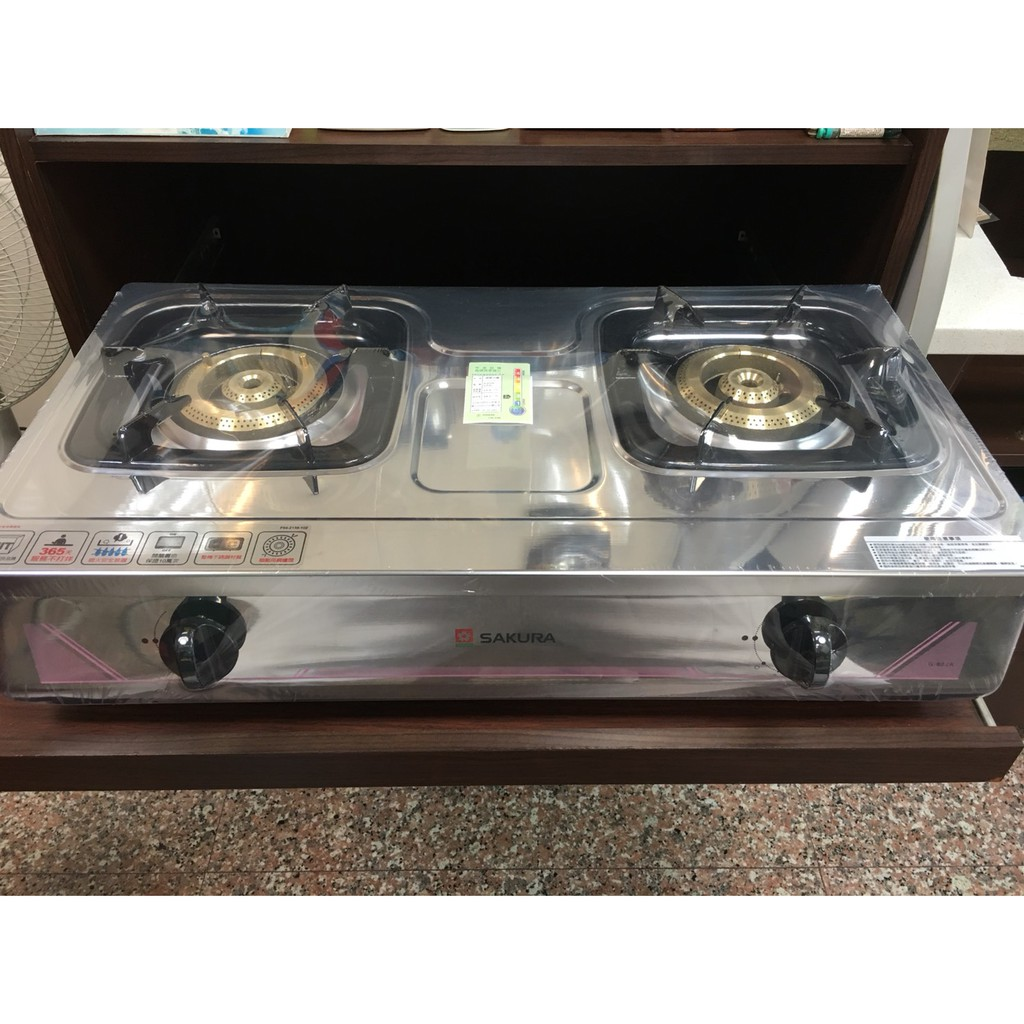gasoven: (3, 253, 1020, 718)
